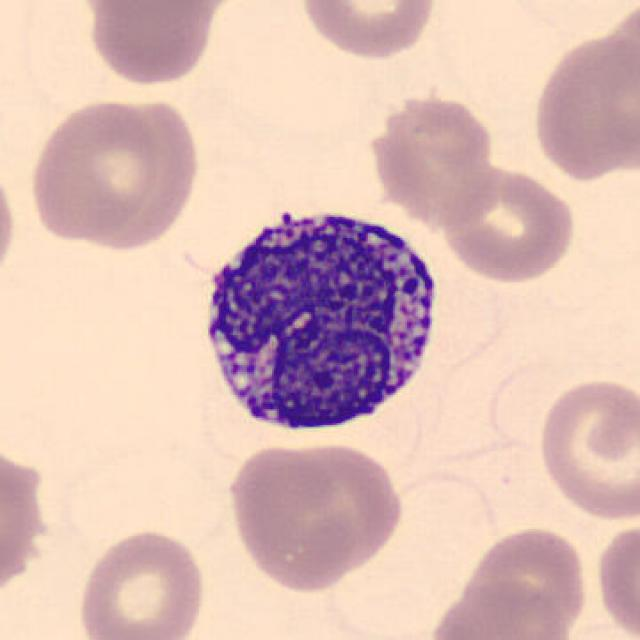Basophil: (188, 190, 450, 446)
RBC: (309, 463, 505, 634), (222, 439, 402, 592), (25, 95, 165, 245), (362, 84, 500, 226), (84, 96, 204, 250), (436, 160, 580, 286), (528, 28, 636, 184), (73, 523, 210, 640), (534, 372, 638, 525), (459, 522, 590, 638), (80, 0, 224, 88), (427, 578, 574, 640), (297, 0, 441, 62), (0, 449, 52, 597), (592, 518, 638, 638), (87, 0, 242, 23), (0, 153, 21, 296)
